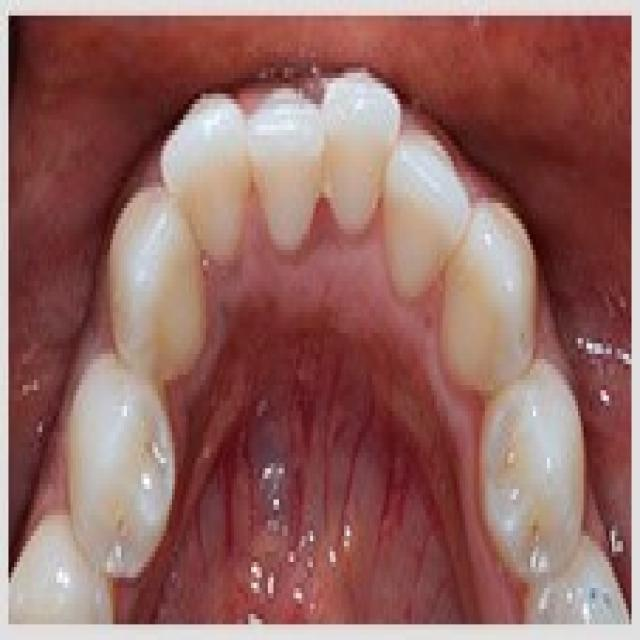tooth: (54, 297, 169, 593), (96, 177, 194, 390), (502, 354, 595, 551), (152, 94, 251, 260), (477, 172, 530, 390), (313, 52, 383, 208), (395, 109, 454, 281), (260, 99, 322, 224)
